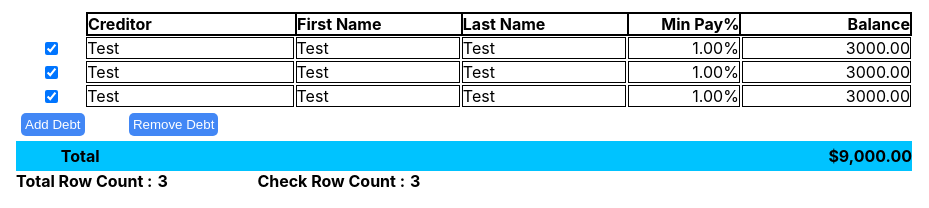
Test: React Tests › If a user clicks a checkbox (NOTE: checkboxes are checked by default), the check row count is decremented and the total is decremented by that unchecked row's b
Click the 3rd checkbox.
click(51, 96)  # box [45,90,58,102]
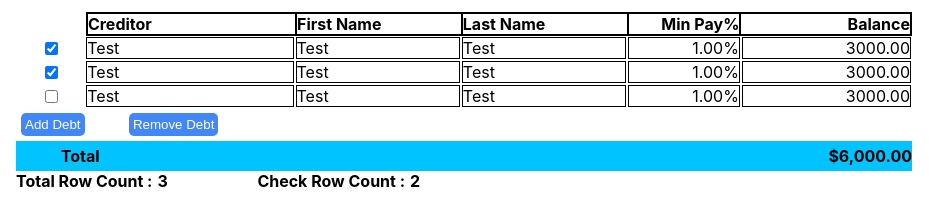
expect the text with test id "rowCount" reads "3": met, box [158,171,168,191]
expect the text with test id "checkCount" reads "2": met, box [410,171,420,191]
